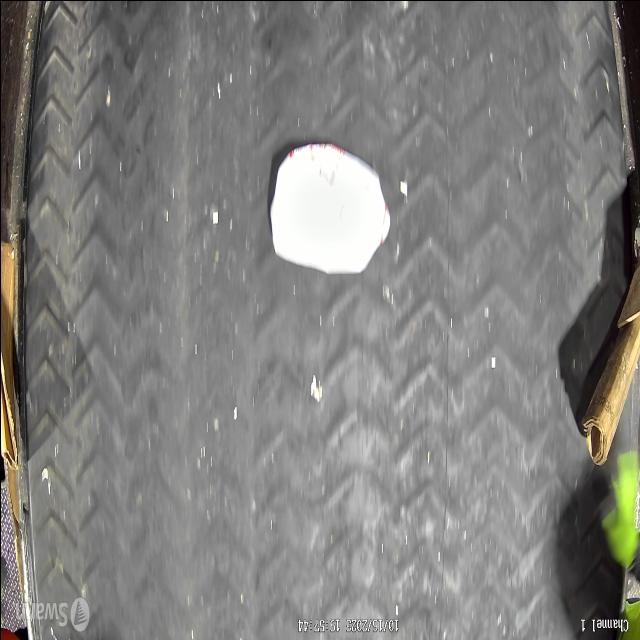milk_jug: (269, 148, 394, 282)
